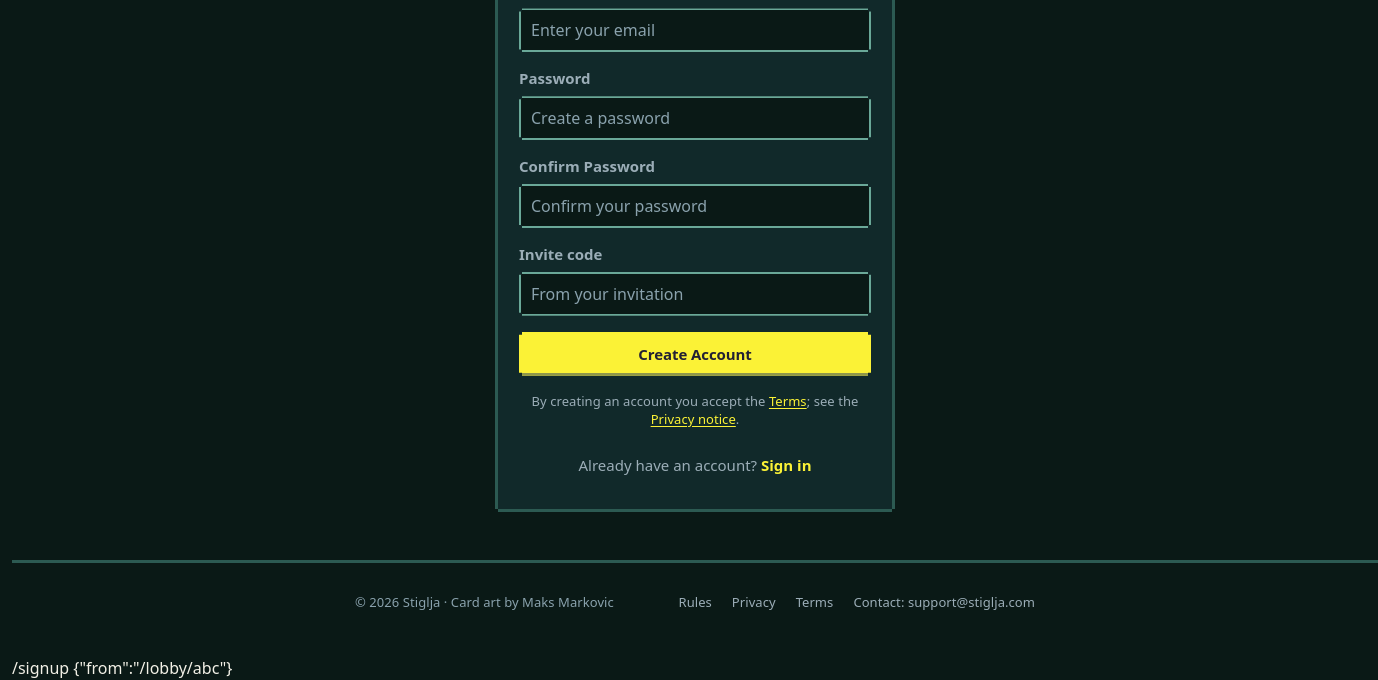
Test: Sign in and sign up are two URLs (X-2) › "Sign in" on /signup is a link back to /login, still carrying the return path
(page scrolled)
What coordinates should you click on to do the following:
click the link "Sign in"
I would click on:
 (786, 465)
Its box is [761, 455, 812, 475].
(page scrolled)
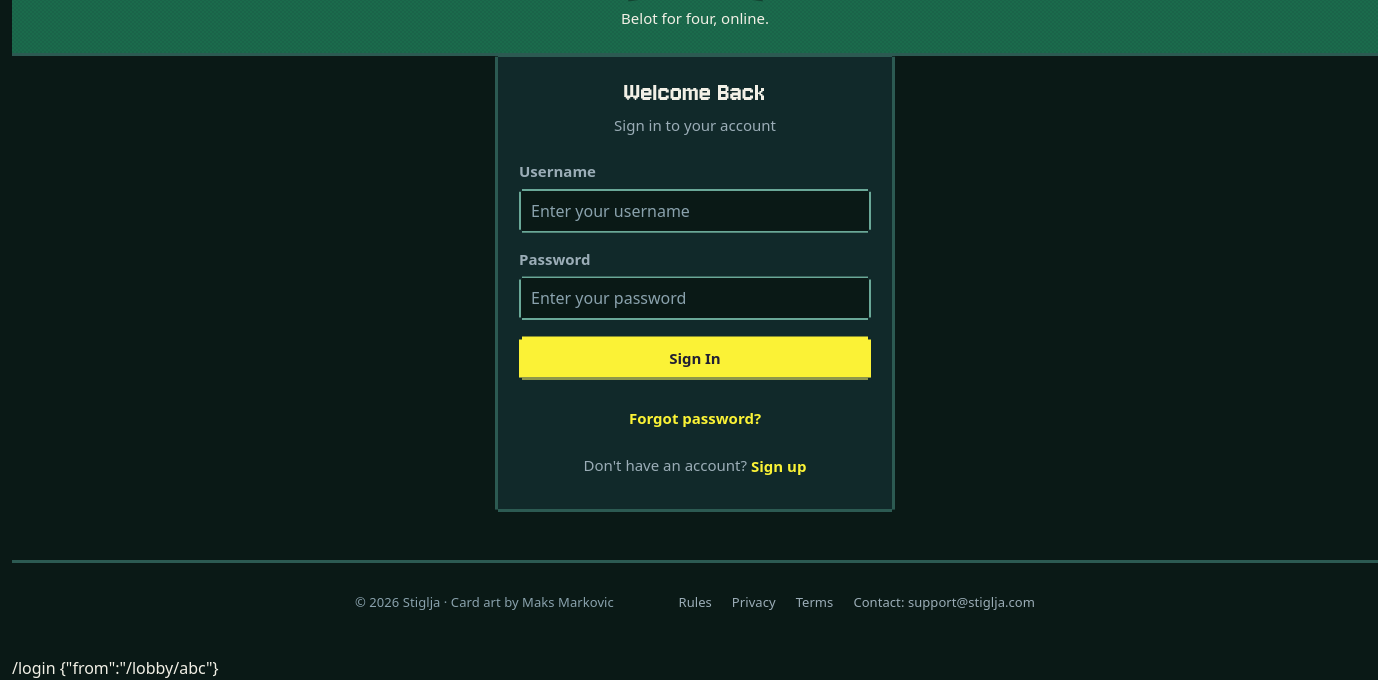
Result: the text with test id "where" reads "/login {\"from\":\"/lobby/abc\"}" at [12, 657, 219, 679]
Result: the heading "Welcome Back" is shown at [624, 77, 766, 108]
